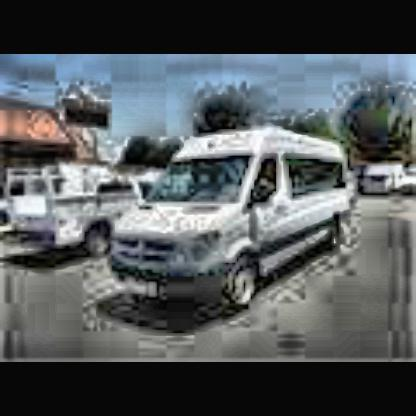Dodge Sprinter Cargo Van 2009: (98, 127, 364, 328)
